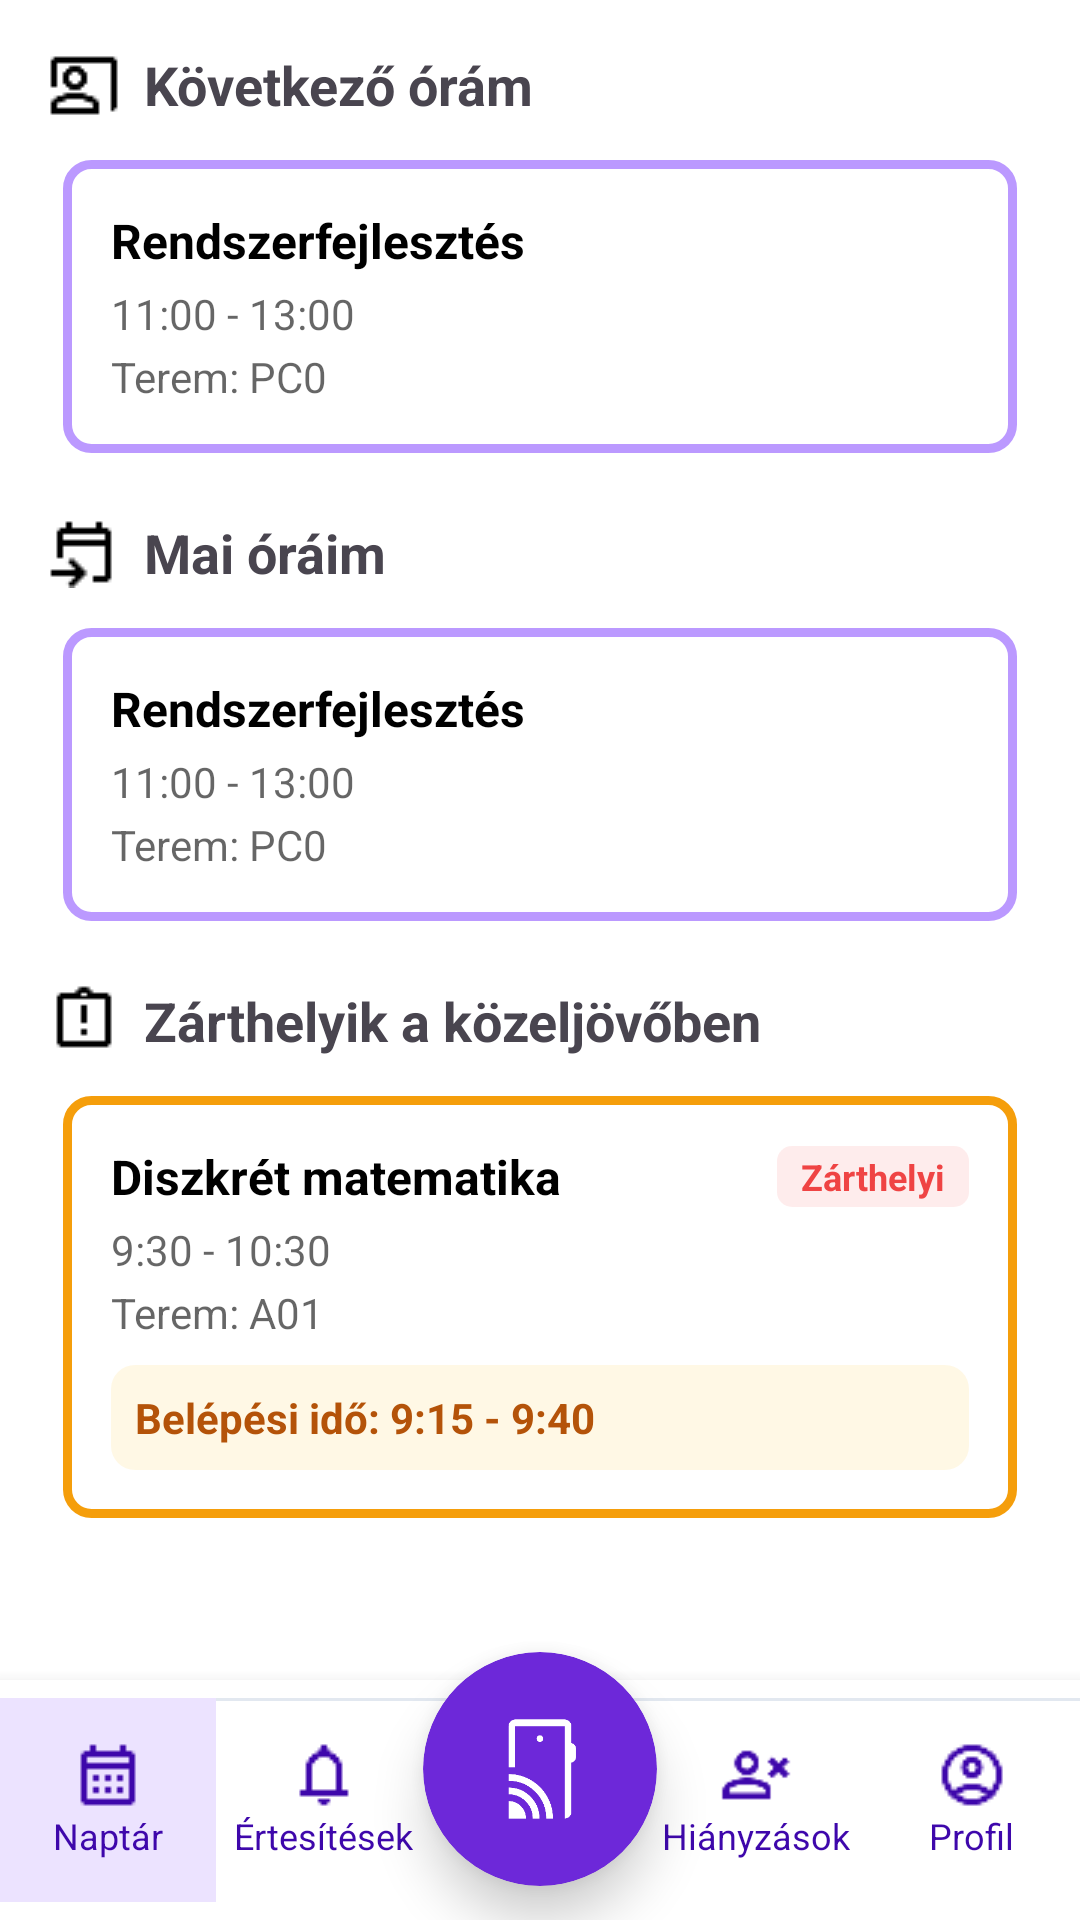

Point at icon controls on the screen. Image size 1080px x 1920px, points as [x,y].
Today's Classes Icon: [81,554]
Upcoming Exams Icon: [84,1017]
user: [972,1775]
